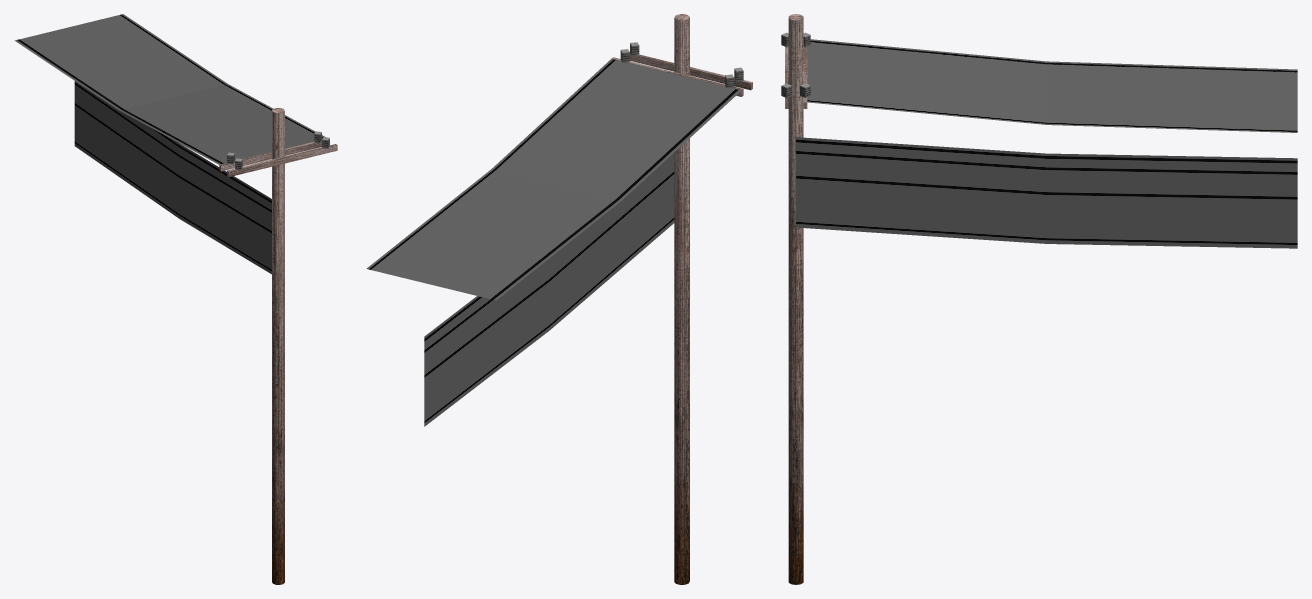
File: wires2_endright.fbx
The picture shows the model from 3 angles, left to right: view 1: azimuth 30°, elevation 25°; view 2: azimuth 150°, elevation 25°; view 3: azimuth 270°, elevation 25°; orthographic projection. The views are drawn at different scales.
Parts seen in each view (by area): view 1: mesh_0; view 2: mesh_0; view 3: mesh_0.
Boxes of the visible parts, <box> form: mesh_0: <box>14,14,337,584</box>; mesh_0: <box>366,14,752,584</box>; mesh_0: <box>781,14,1297,584</box>.
Size of the model in its own units: 300 by 1242 by 1029.
Materials: 1 (1 with a texture image).
